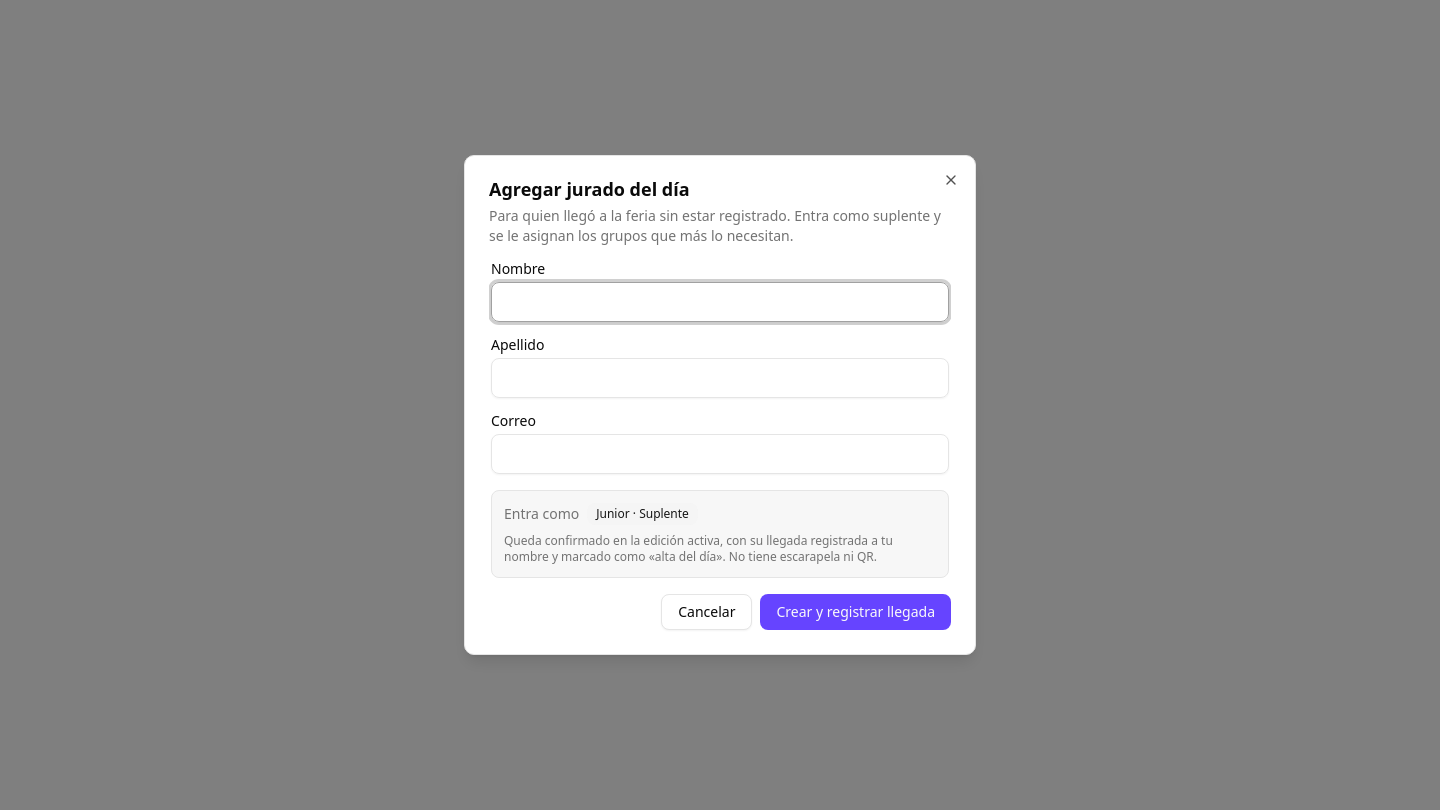
it: Agregar jurado del día (HU-24, ARK-218) › alta nueva: crea, muestra la llegada en hora de Colombia y refresca la asistencia
Type "Laura" into the field labelled "Nombre" at x=720, y=302, box [491,282,949,322]
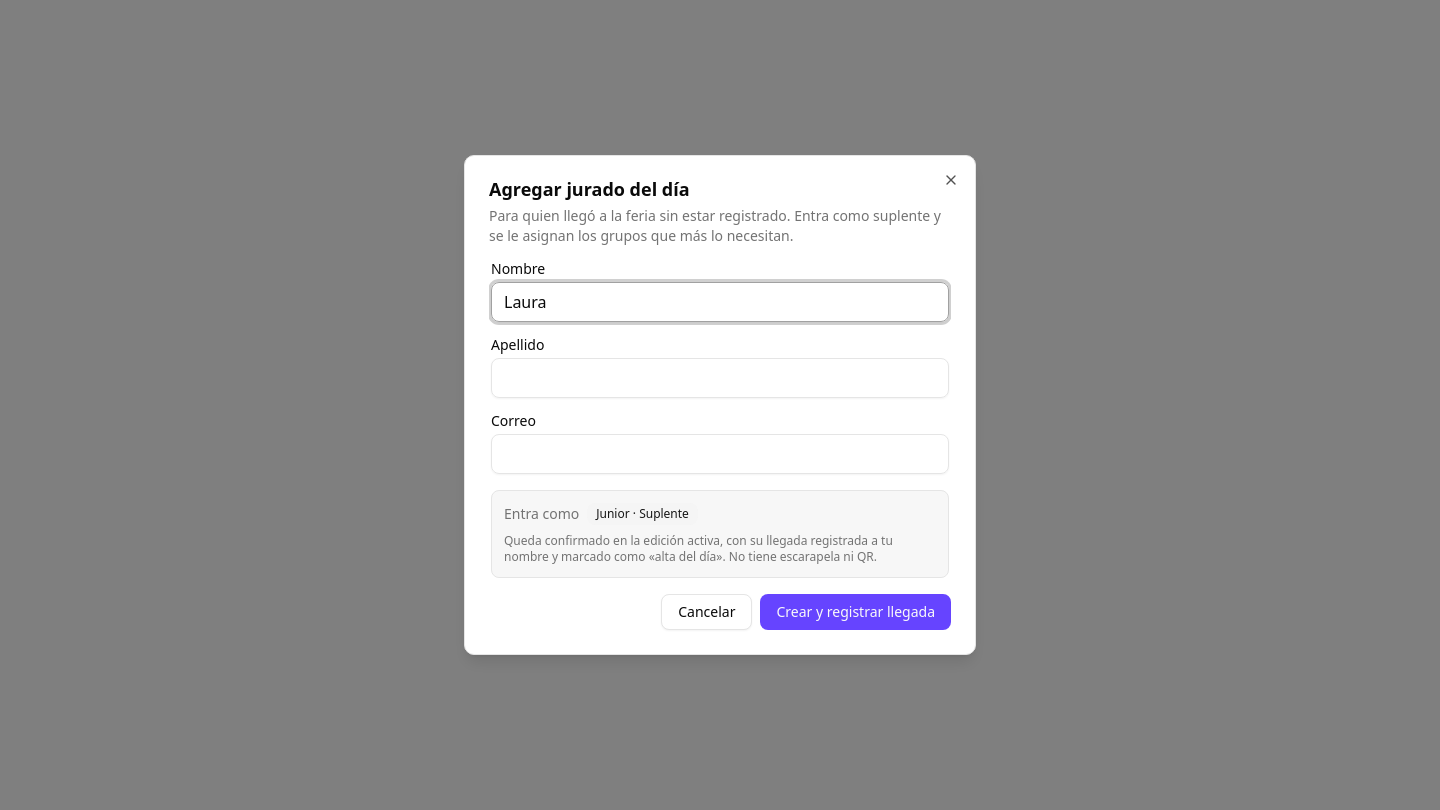
Type "Gómez Ruiz" into the field labelled "Apellido" at x=720, y=378, box [491,358,949,398]
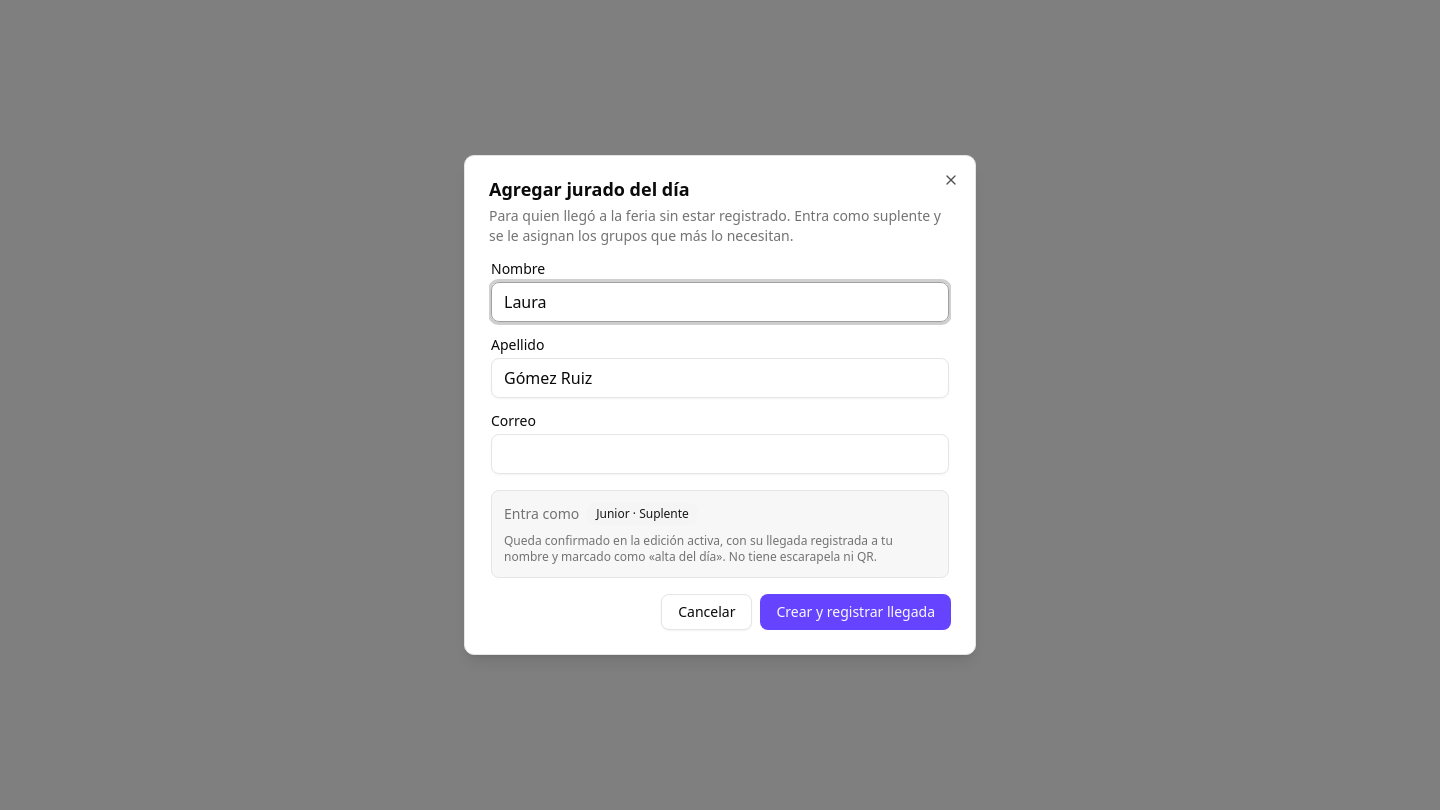
Type "laura@ejemplo.com" into the field labelled "Correo" at x=720, y=454, box [491,434,949,474]
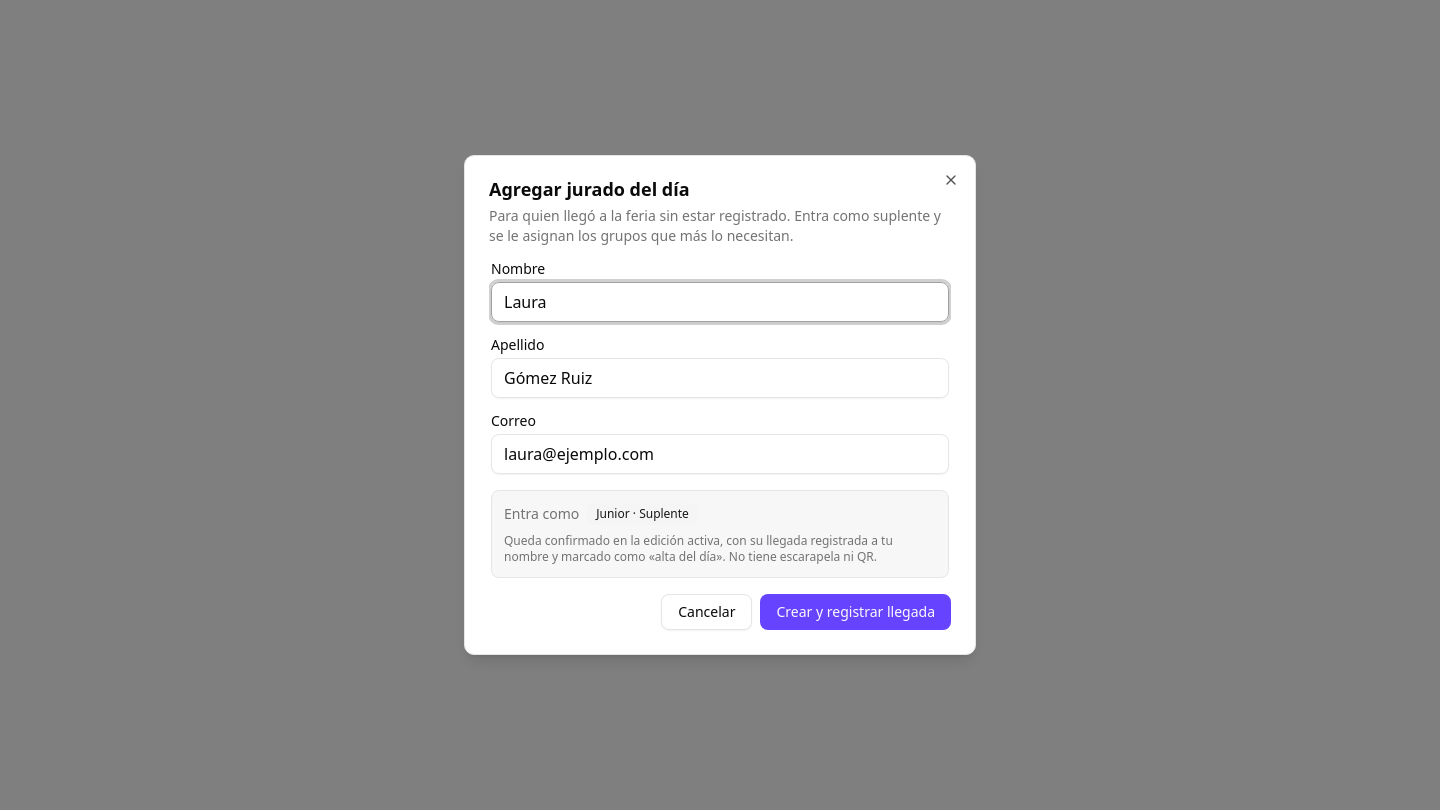
Click the button "Crear y registrar llegada" at x=856, y=612, box [760,594,951,630]
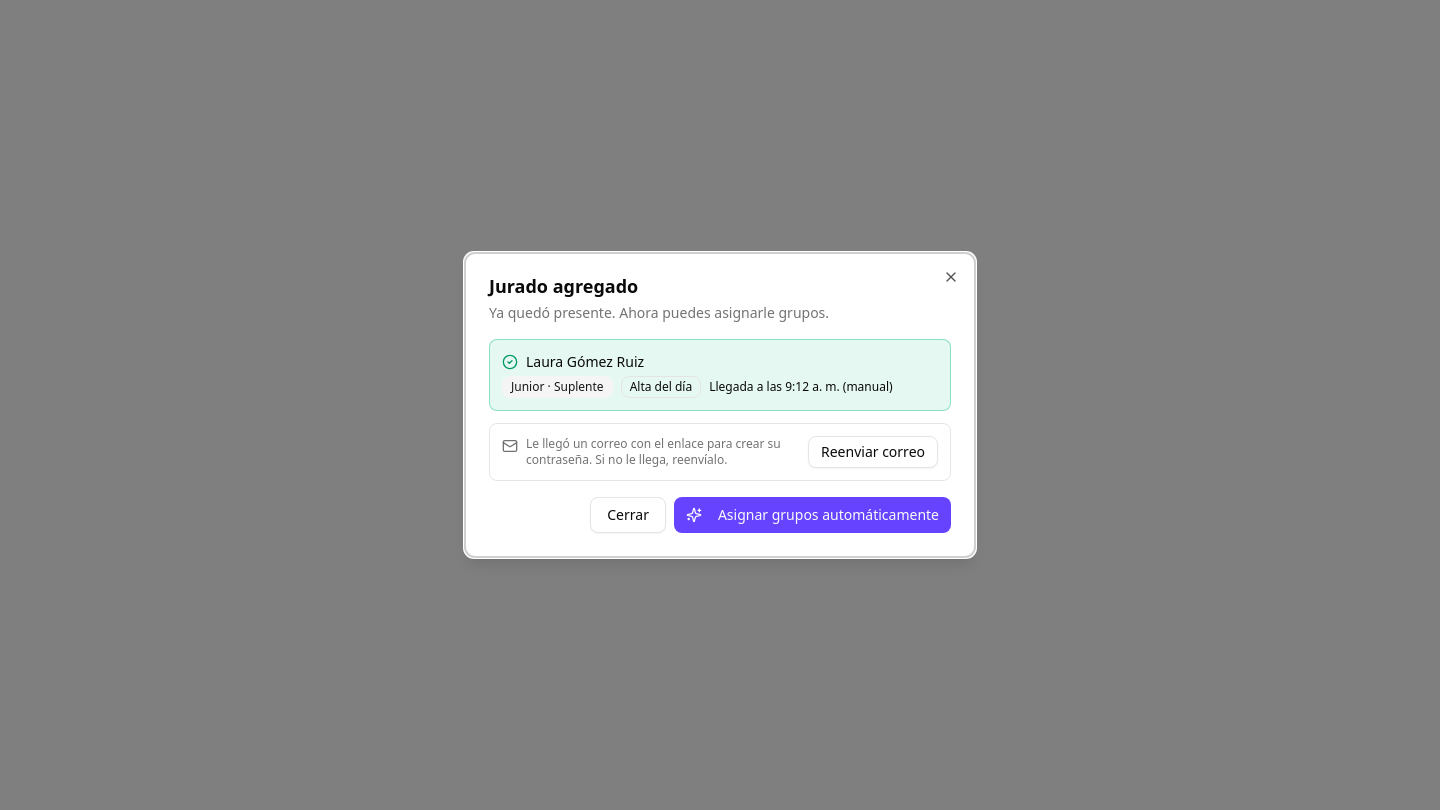
Expected: the text "Alta del día" is shown, [621,376,701,398]
Expected: the text "Laura Gómez Ruiz" is shown, [502,352,644,371]
Expected: the text "Llegada a las 9:12 a. m. (manual)" is shown, [709,379,893,395]
